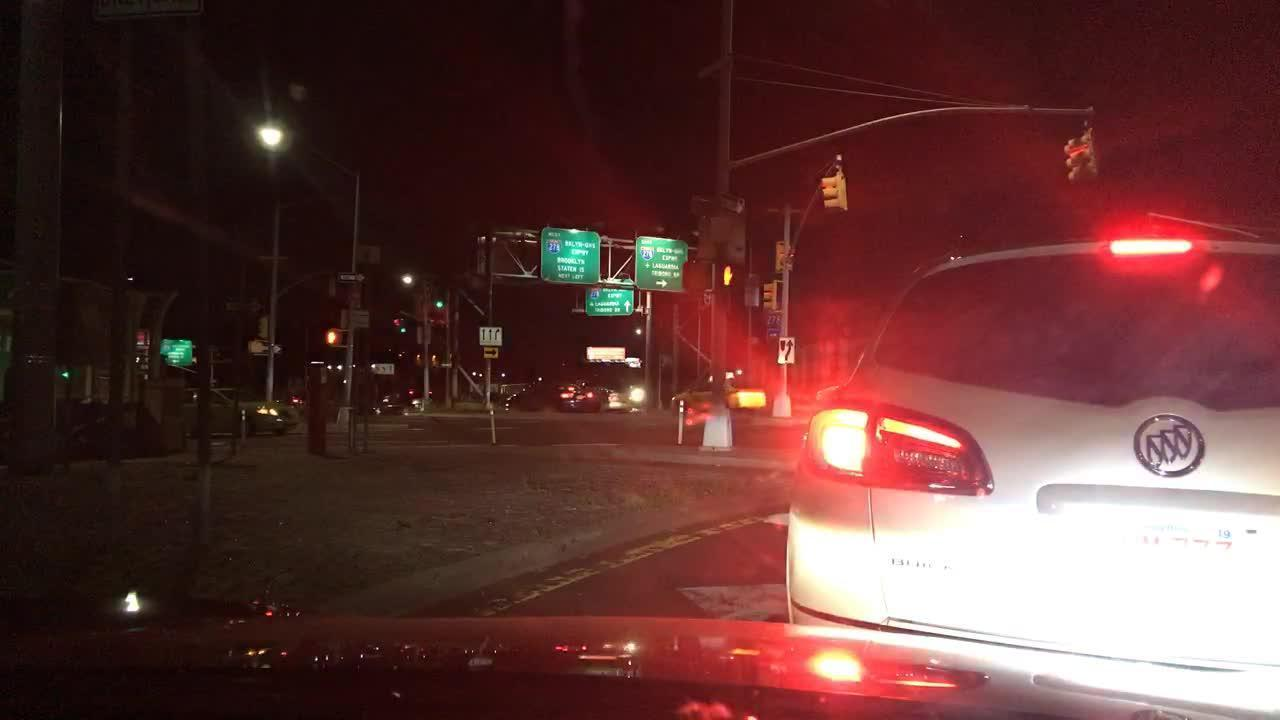Mercury: (1117, 403, 1225, 487)
